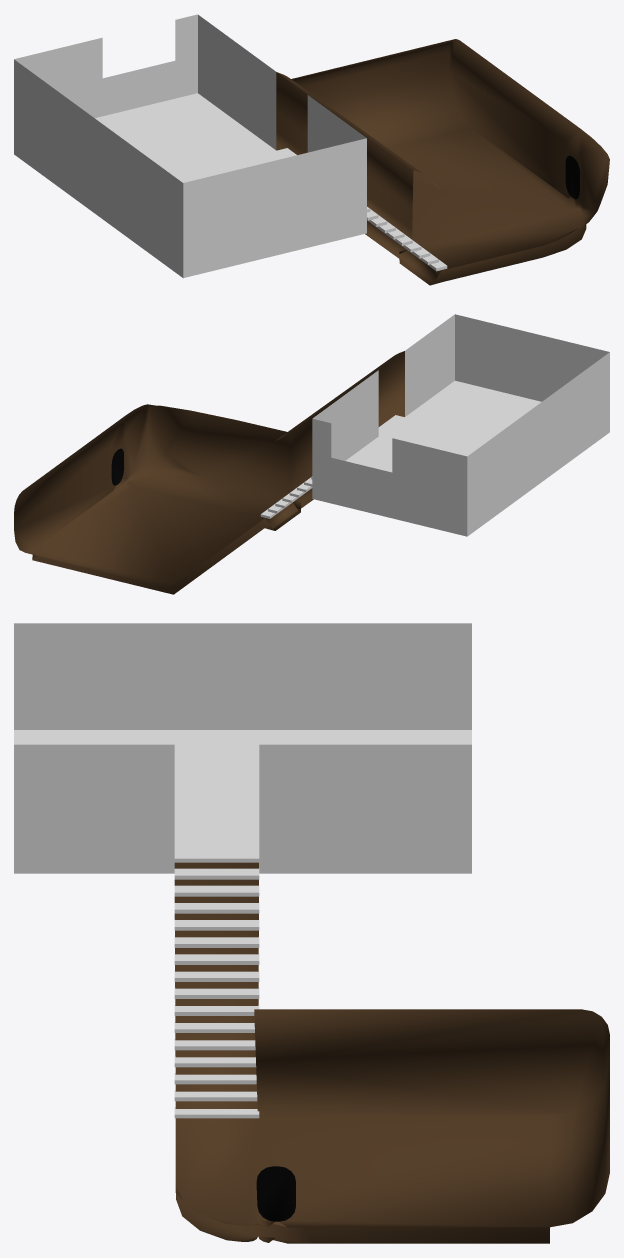
The model's file is doomsday.glb.
The picture shows the model from 3 angles, top to bottom: view 1: azimuth 30°, elevation 25°; view 2: azimuth 150°, elevation 25°; view 3: azimuth 270°, elevation 25°; orthographic projection. The views are drawn at different scales.
Visible parts, largest first — view 1: structure, nav, nav.002, nav.001; view 2: structure, nav, nav.002, nav.001; view 3: structure, nav, nav.002.
Boxes of the visible parts, x1,y1,x2,y2 form: structure: (14,14,609,271); nav: (14,94,366,278); nav.002: (399,224,586,285); nav.001: (365,220,441,282); structure: (14,314,609,587); nav: (312,381,609,536); nav.002: (32,500,301,594); nav.001: (265,488,313,528); structure: (14,623,609,1227); nav: (14,730,471,873); nav.002: (176,1193,549,1243).
Bounding box in the file's own units: 40.1 × 17.69 × 31.4.
